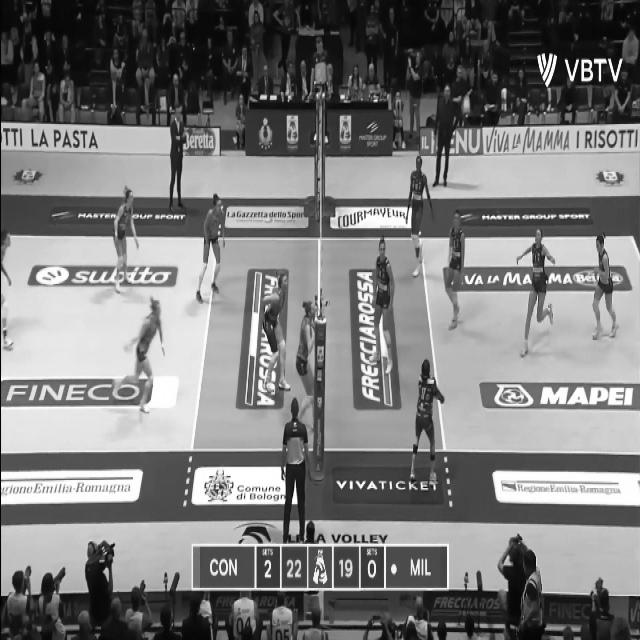volleyball court: (7, 234, 634, 452)
